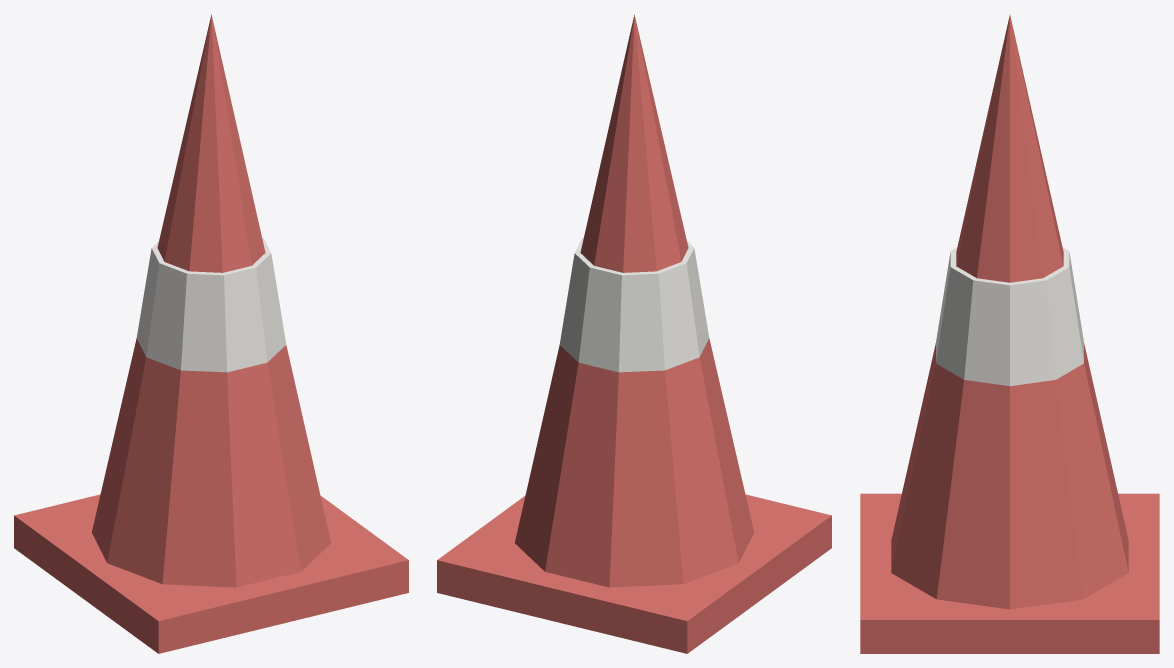
The model's file is hot-air-balloon-festival-traffic-cone-799bc862.glb.
3 renders of one model, left to right at view 1: azimuth 30°, elevation 25°; view 2: azimuth 150°, elevation 25°; view 3: azimuth 270°, elevation 25°, orthographic. The views are drawn at different scales.
Parts seen in each view (by area): view 1: traffic-cone-canvasA, traffic-cone-canvasB; view 2: traffic-cone-canvasA, traffic-cone-canvasB; view 3: traffic-cone-canvasA, traffic-cone-canvasB.
Part boxes in pixels (x1,y1,x2,y2): traffic-cone-canvasA: (14, 14, 408, 653); traffic-cone-canvasB: (136, 237, 286, 372); traffic-cone-canvasA: (437, 14, 831, 653); traffic-cone-canvasB: (559, 237, 709, 372); traffic-cone-canvasA: (860, 15, 1159, 653); traffic-cone-canvasB: (936, 247, 1083, 386).
Bounding box in the file's own units: 0.36 × 0.765 × 0.36.
